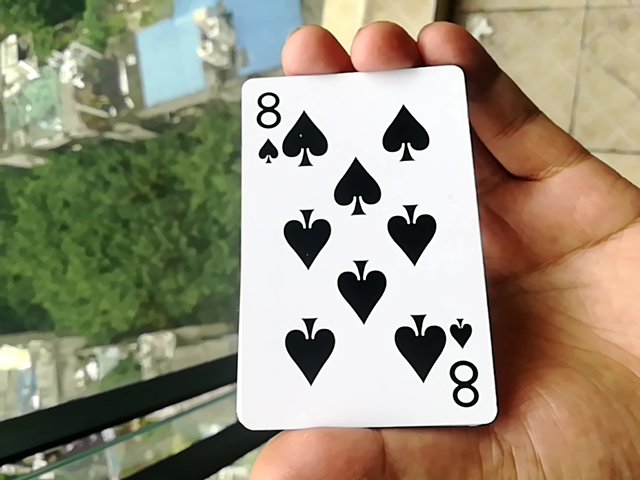ht 8: (234, 55, 480, 442)
